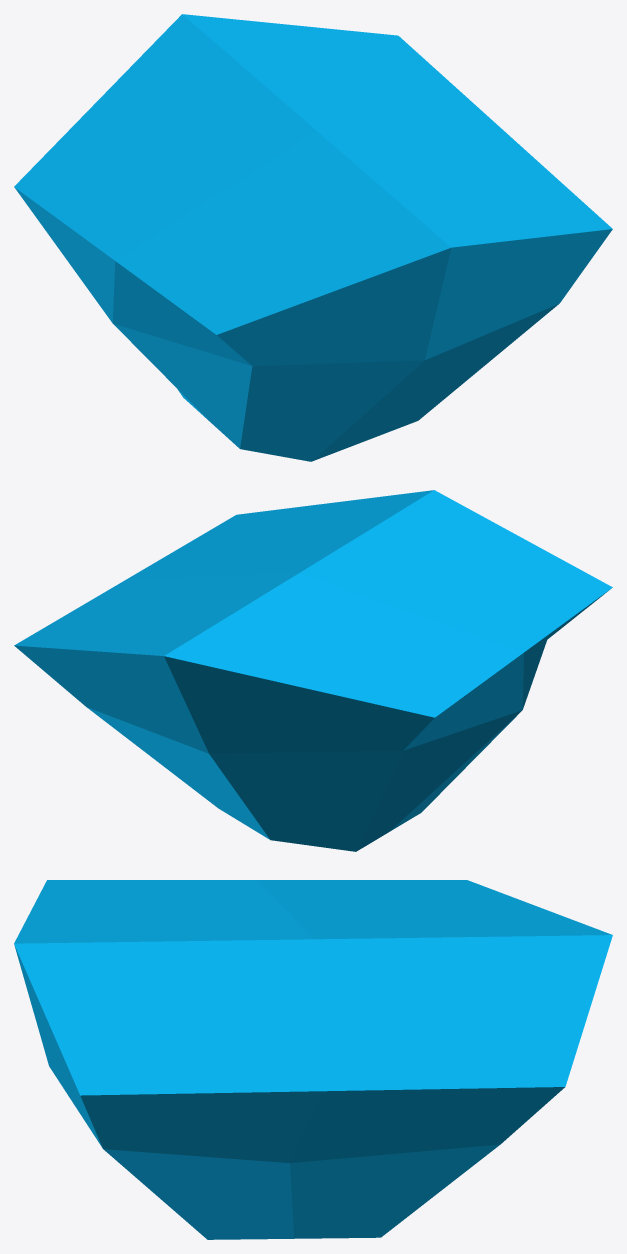
The model's file is Diamond_FBX.fbx.
3 views of the same model, one above another, from view 1: azimuth 30°, elevation 25°; view 2: azimuth 150°, elevation 25°; view 3: azimuth 270°, elevation 25° (orthographic). The views are drawn at different scales.
Parts seen in each view (by area): view 1: Cube; view 2: Cube; view 3: Cube.
Boxes of the visible parts, x1,y1,x2,y2 form: Cube: (14, 14, 612, 461); Cube: (14, 490, 612, 851); Cube: (14, 880, 612, 1239).
Size of the model in its own units: 393 by 247 by 454.
